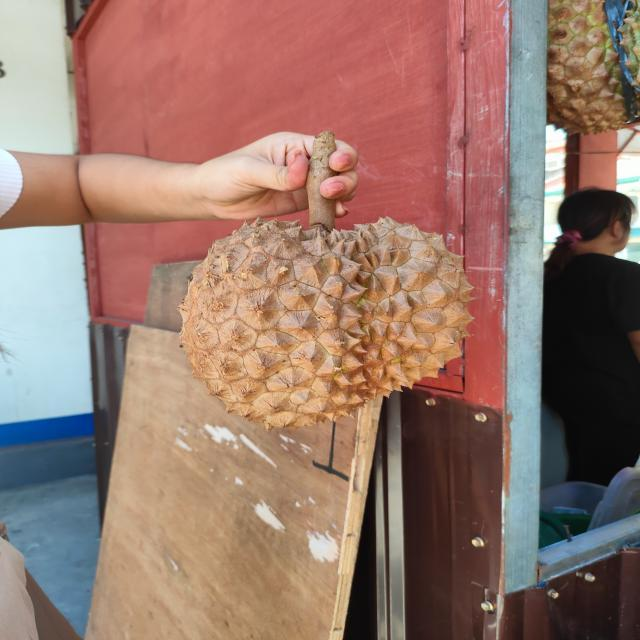mature: (173, 215, 479, 433)
